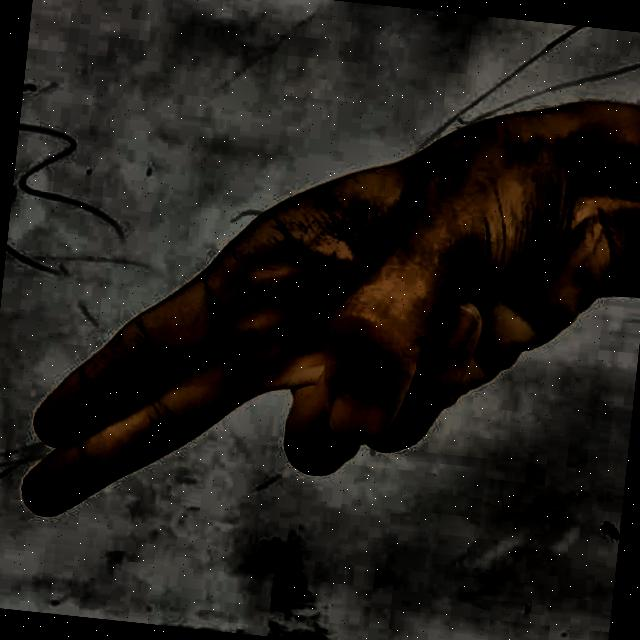Ha: (0, 66, 605, 640)
